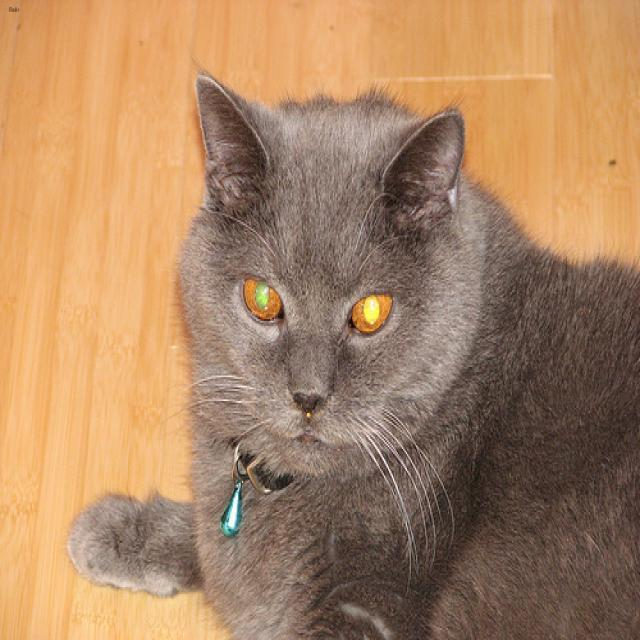British_Shorthair: (181, 71, 484, 491)
